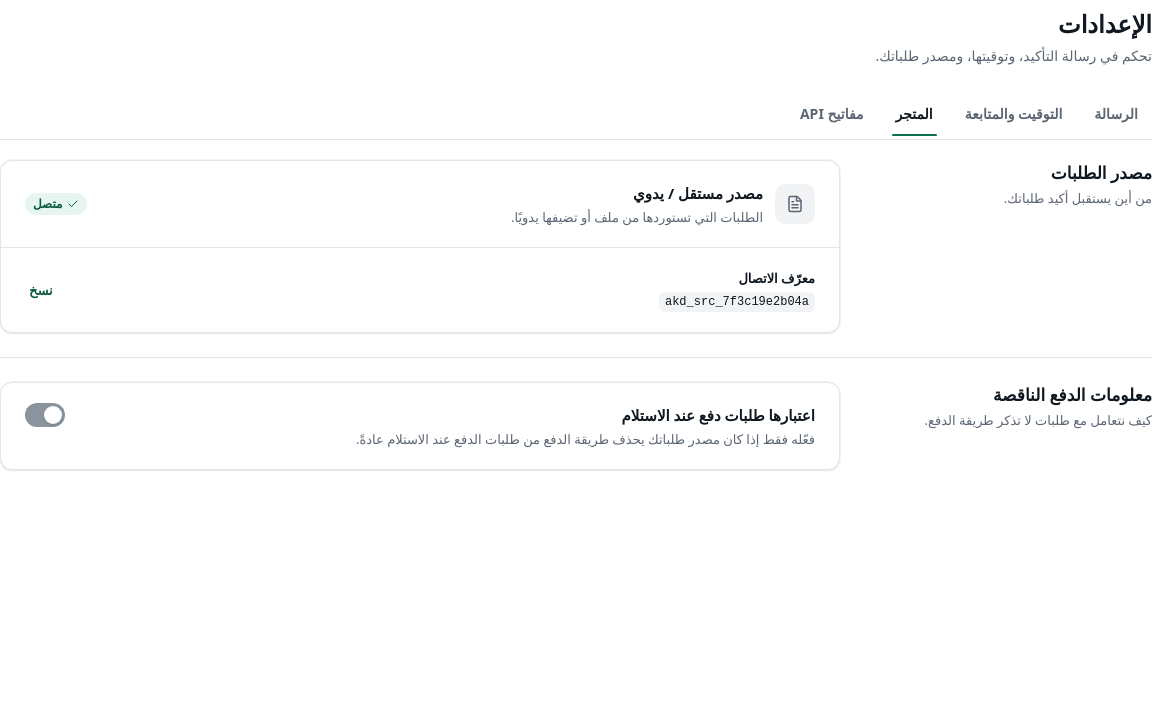
it: standalone Store tab › saves the rule with the rest of the form
This screenshot has width=1164, height=720.
Check: the heading "معلومات الدفع الناقصة" is shown, box [993,383,1152,406]
Click the switch named "اعتبارها طلبات دفع عند الاستلام": [45, 415] box [25,403,65,427]
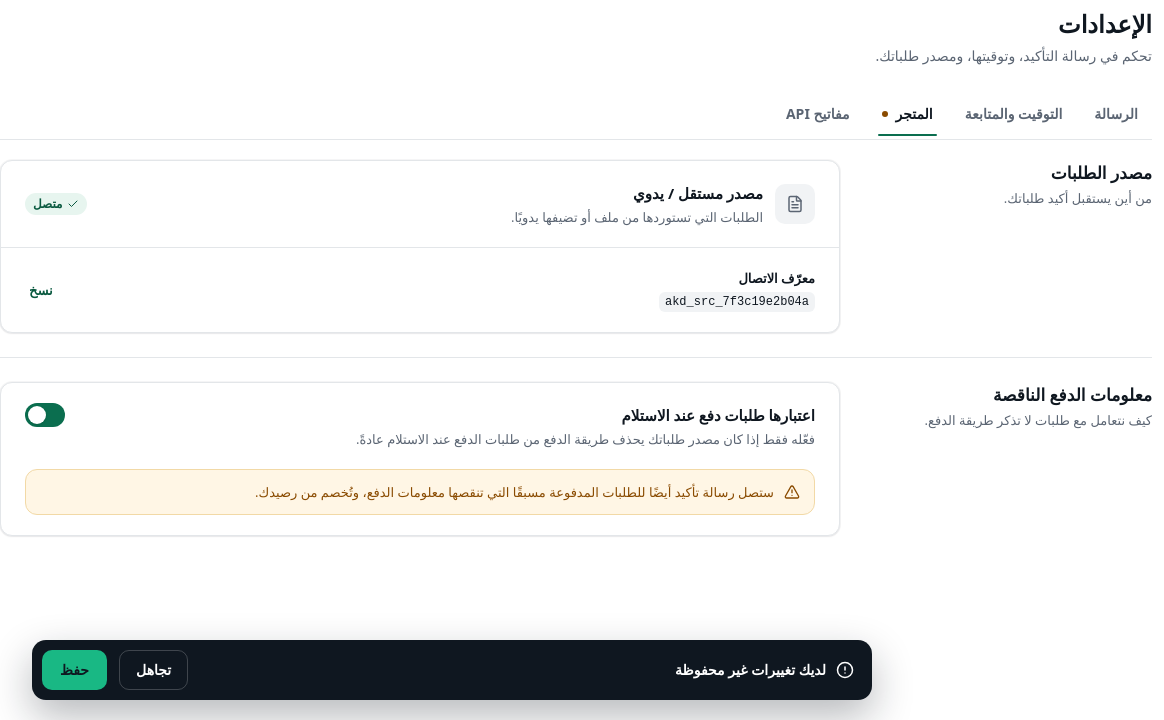
Click the button "حفظ": [74, 670] box [42,650,107,690]
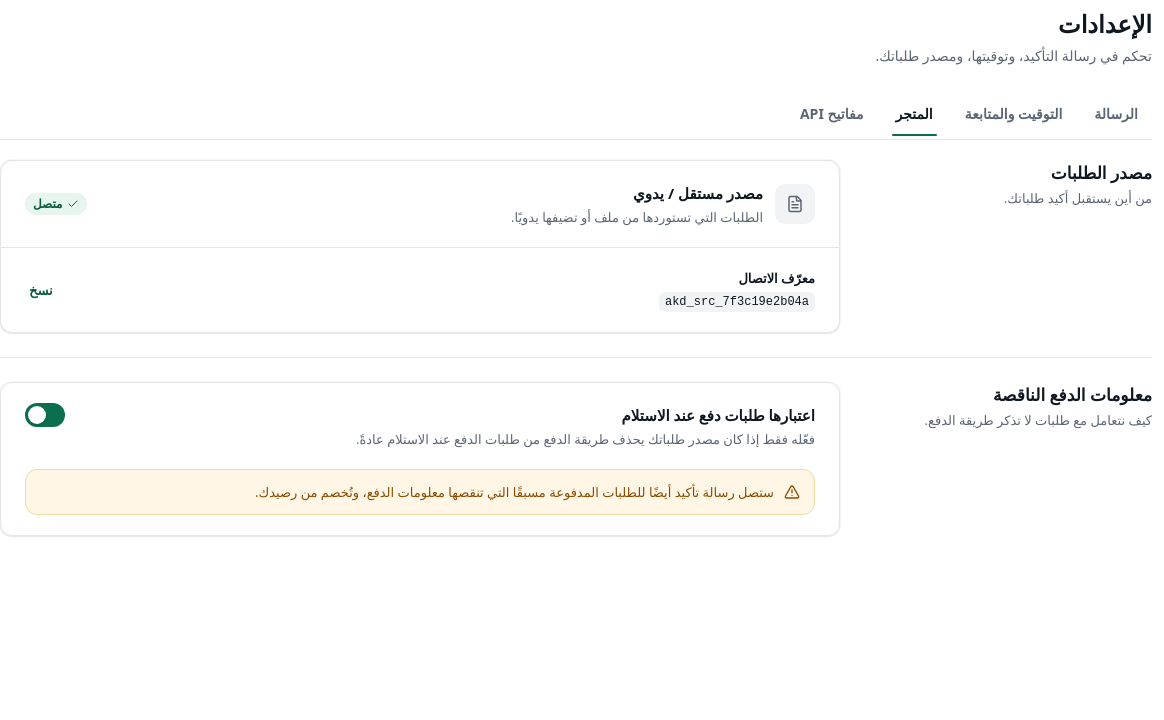
Check: the text "ستصل رسالة تأكيد أيضًا للطلبات المدفوعة مسبقًا التي تنقصها معلومات الدفع، وتُخصم من رصيدك." is shown, box [255,483,774,501]
Check: the text "تغييرات غير محفوظة" is gone
